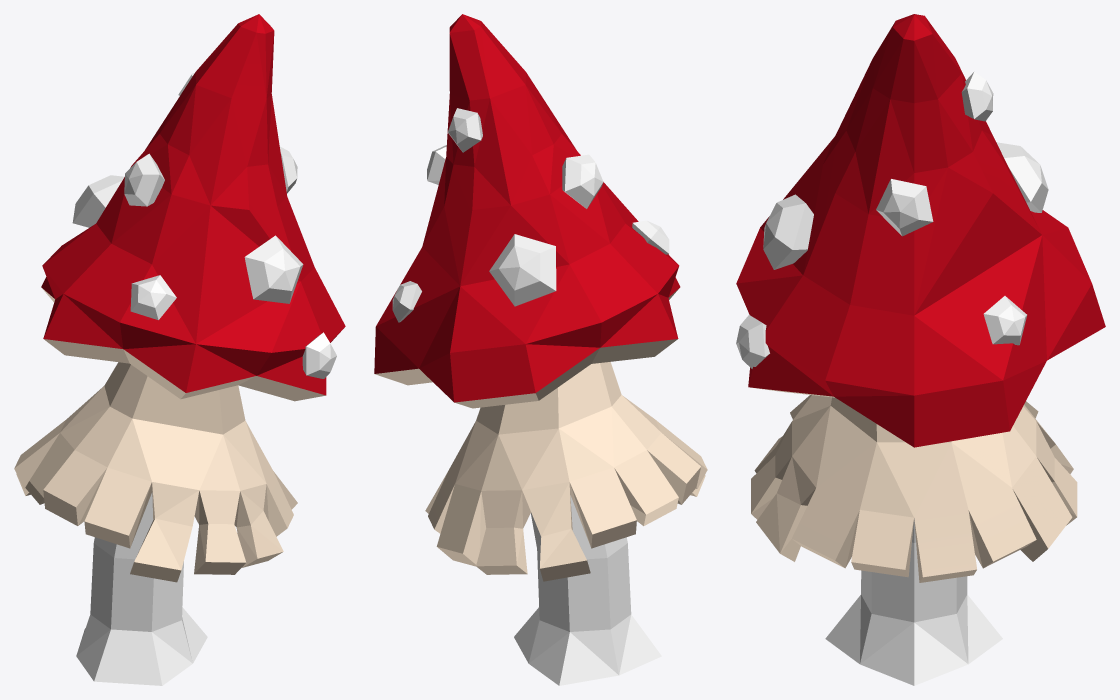
The model's file is AttackMashroom2.fbx.
3 renders of one model, left to right at view 1: azimuth 30°, elevation 25°; view 2: azimuth 150°, elevation 25°; view 3: azimuth 270°, elevation 25°, orthographic. The views are drawn at different scales.
Parts seen in each view (by area): view 1: AttackMashroom2; view 2: AttackMashroom2; view 3: AttackMashroom2.
Boxes of the visible parts, x1,y1,x2,y2 form: AttackMashroom2: (14,14,345,685); AttackMashroom2: (374,14,707,685); AttackMashroom2: (736,14,1105,685).
Size of the model in its own units: 26.99 by 55.19 by 26.43.
